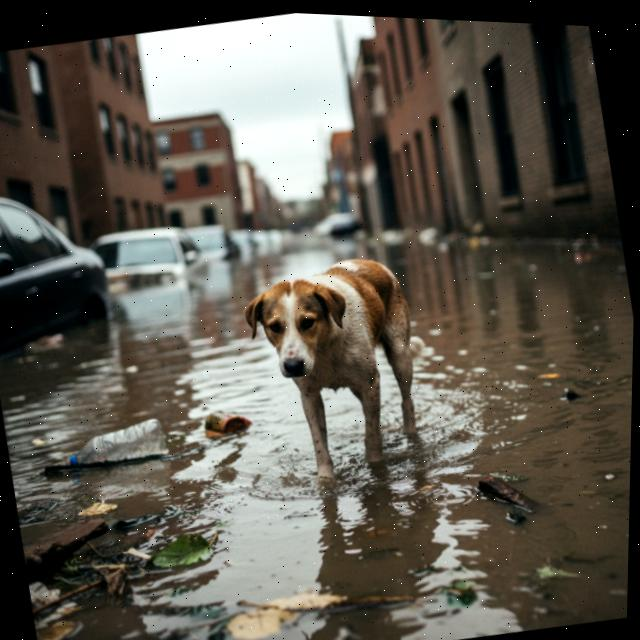dog: (210, 233, 475, 503)
